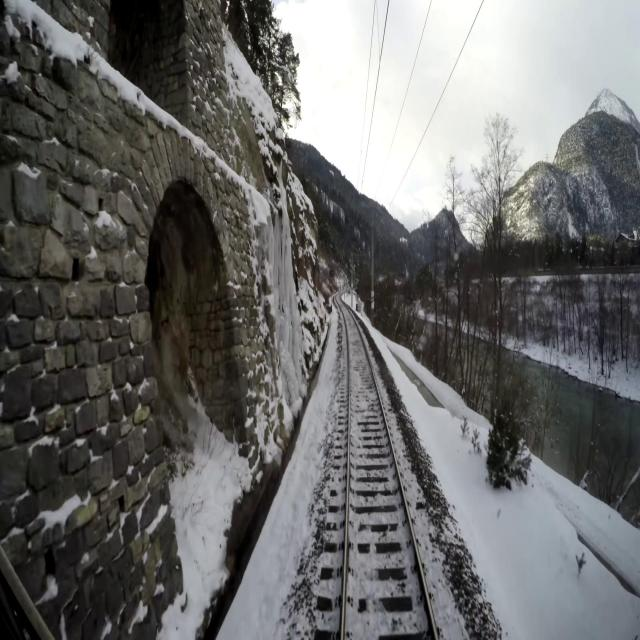rail-track: (337, 295, 434, 639)
